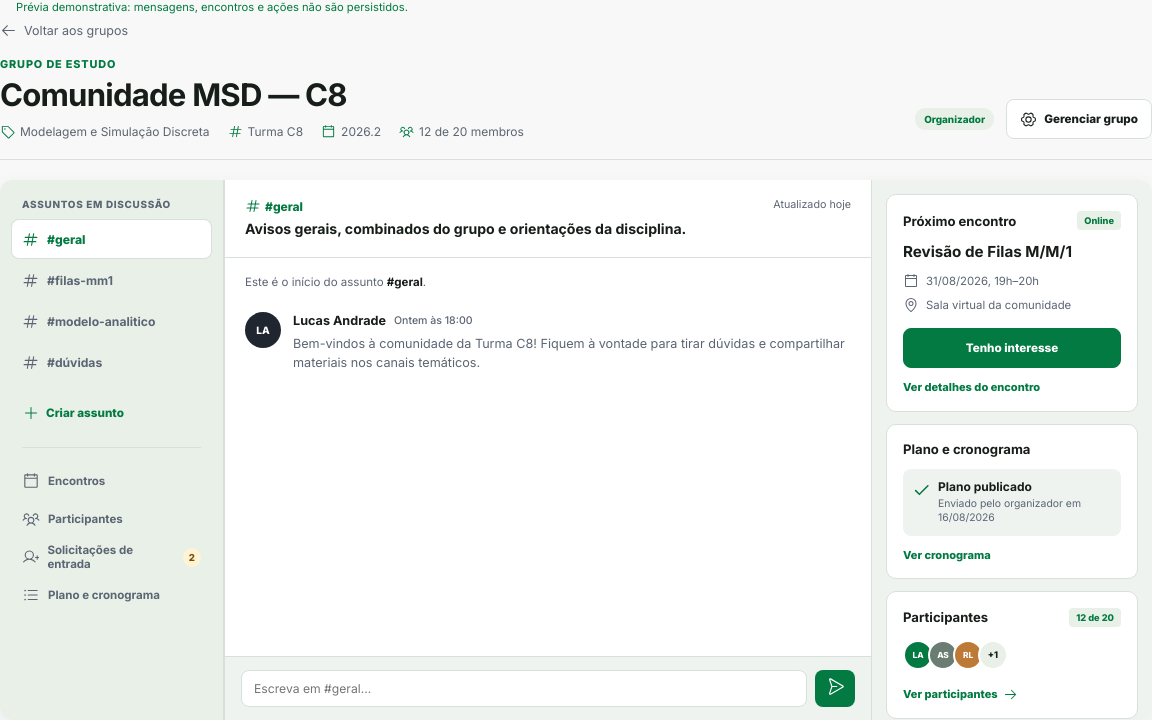
GroupDetailView › abre e fecha o painel de participantes e responde à tecla Escape
The width and height of the screenshot is (1152, 720).
Click the button "Ver participantes" at (960, 694), box x1=903 y1=687 x2=1018 y2=702
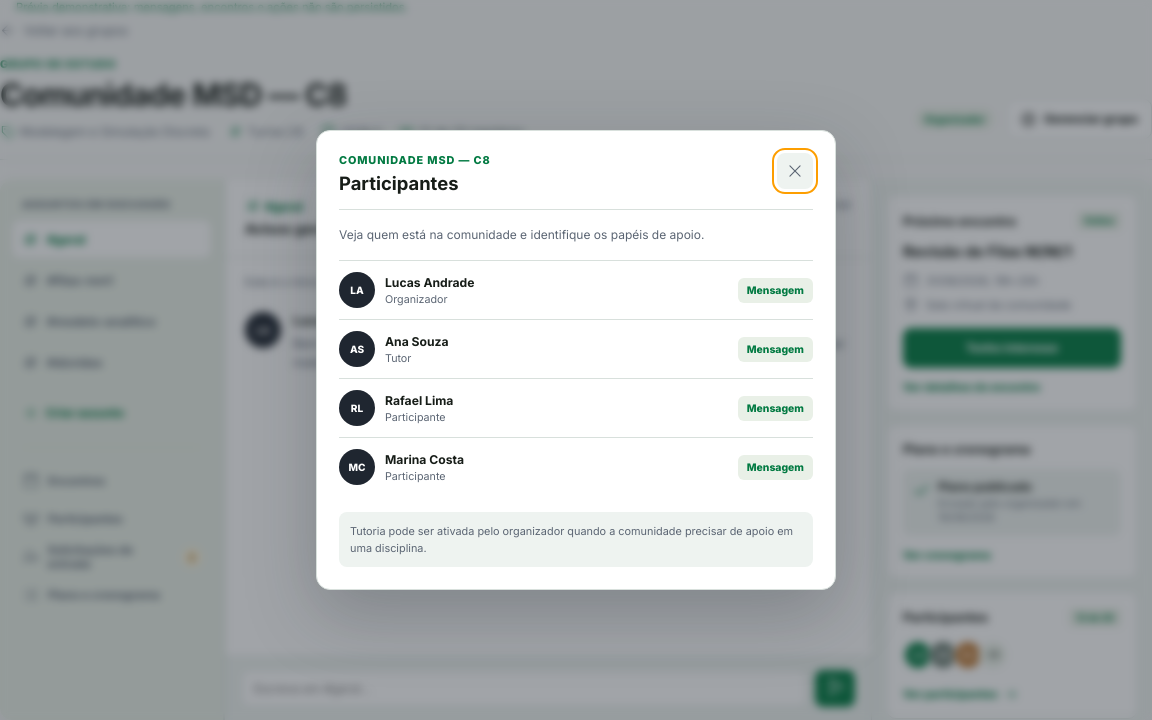
Check: the dialog "Participantes" is shown, box x1=316 y1=130 x2=836 y2=590
Check: the text "Lucas Andrade" is shown, box x1=385 y1=275 x2=474 y2=290
Check: the text "Ana Souza" is shown, box x1=385 y1=334 x2=449 y2=349
Press Escape
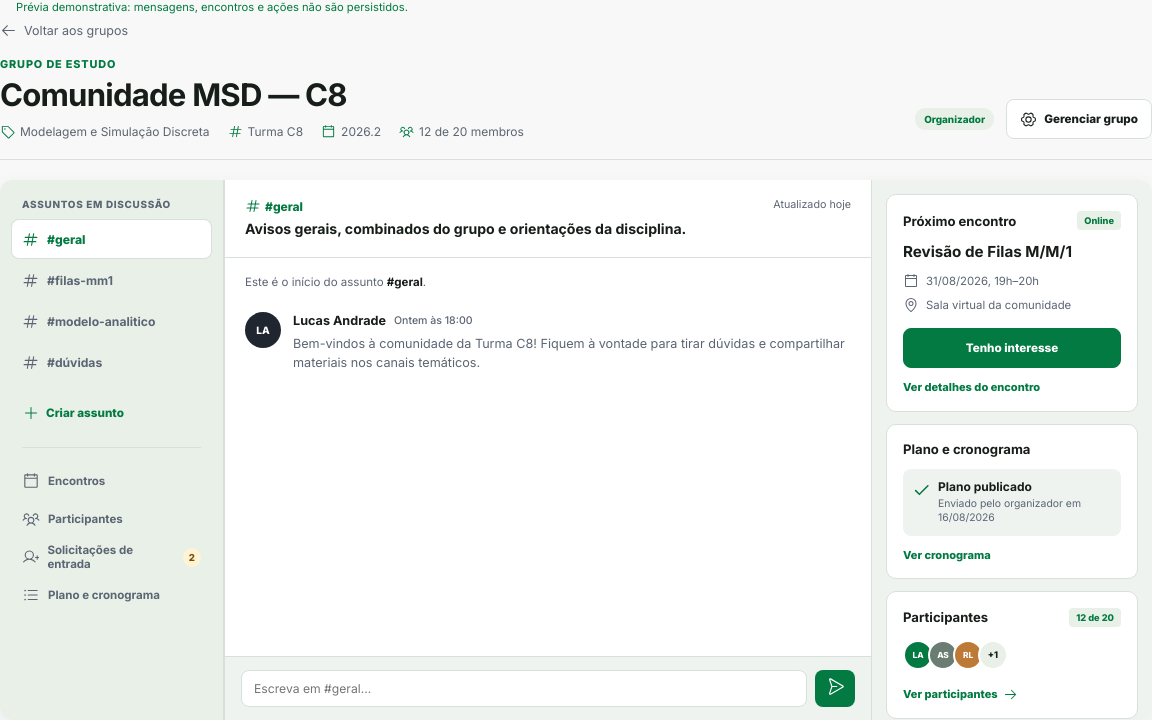
Check: the dialog is gone
